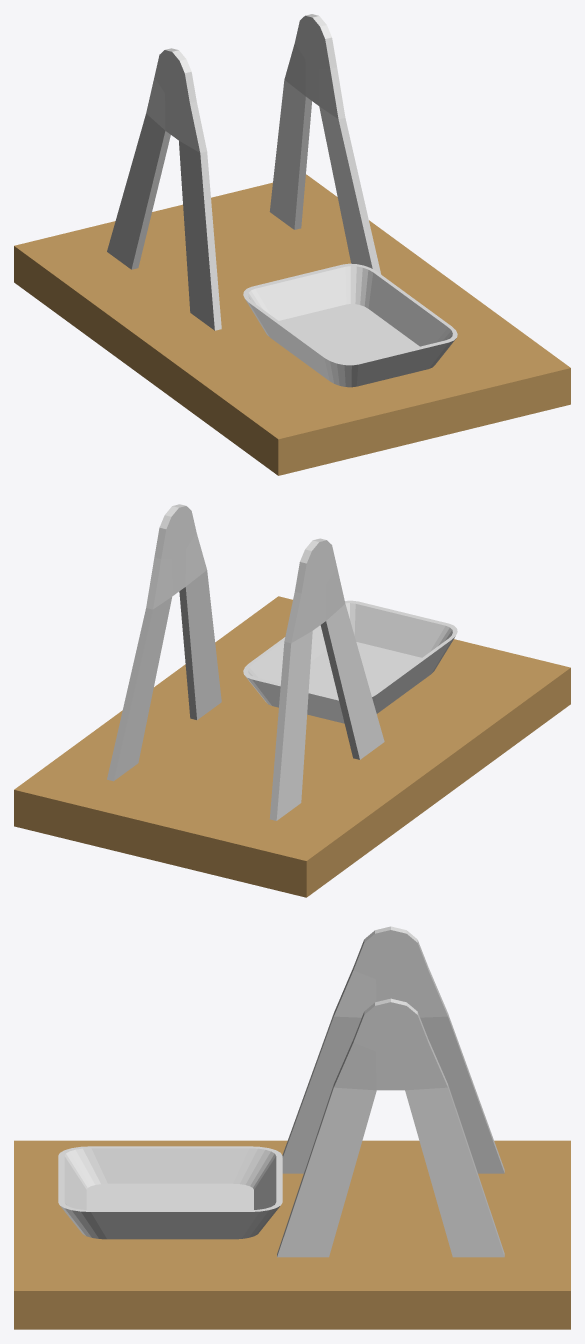
Rendered from garagarapon_B.glb.
3 views of the same model, one above another, from view 1: azimuth 30°, elevation 25°; view 2: azimuth 150°, elevation 25°; view 3: azimuth 270°, elevation 25° (orthographic). The views are drawn at different scales.
Parts seen in each view (by area): view 1: Cube.002, Cube.001, Cube.003; view 2: Cube.002, Cube.001, Cube.003; view 3: Cube.002, Cube.001, Cube.003.
Boxes of the visible parts, <box> form: Cube.002: <box>14,174,570,475</box>; Cube.001: <box>107,14,381,330</box>; Cube.003: <box>243,263,457,387</box>; Cube.002: <box>14,596,570,897</box>; Cube.001: <box>107,504,384,820</box>; Cube.003: <box>243,600,457,723</box>; Cube.002: <box>14,1140,570,1329</box>; Cube.001: <box>277,926,504,1257</box>; Cube.003: <box>58,1146,282,1239</box>.
Size of the model in its own units: 1.65 by 1.48 by 2.58.
